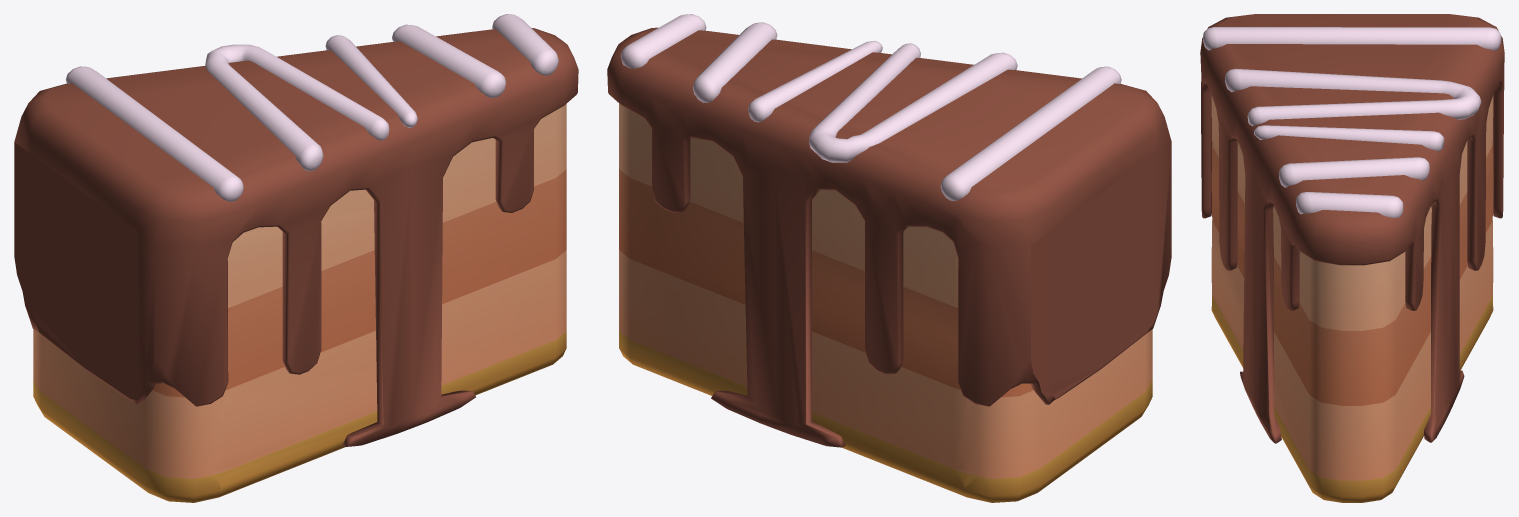
The model's file is Cake Slice2.fbx.
3 views of the same model, side by side, from view 1: azimuth 30°, elevation 25°; view 2: azimuth 150°, elevation 25°; view 3: azimuth 270°, elevation 25° (orthographic). The views are drawn at different scales.
Visible parts, largest first — view 1: Cake Slice 2; view 2: Cake Slice 2; view 3: Cake Slice 2.
Boxes of the visible parts, x1,y1,x2,y2 form: Cake Slice 2: (14,14,578,502); Cake Slice 2: (607,14,1171,502); Cake Slice 2: (1200,14,1504,502).
Bounding box in the file's own units: 16.28 × 10.36 × 9.58.
